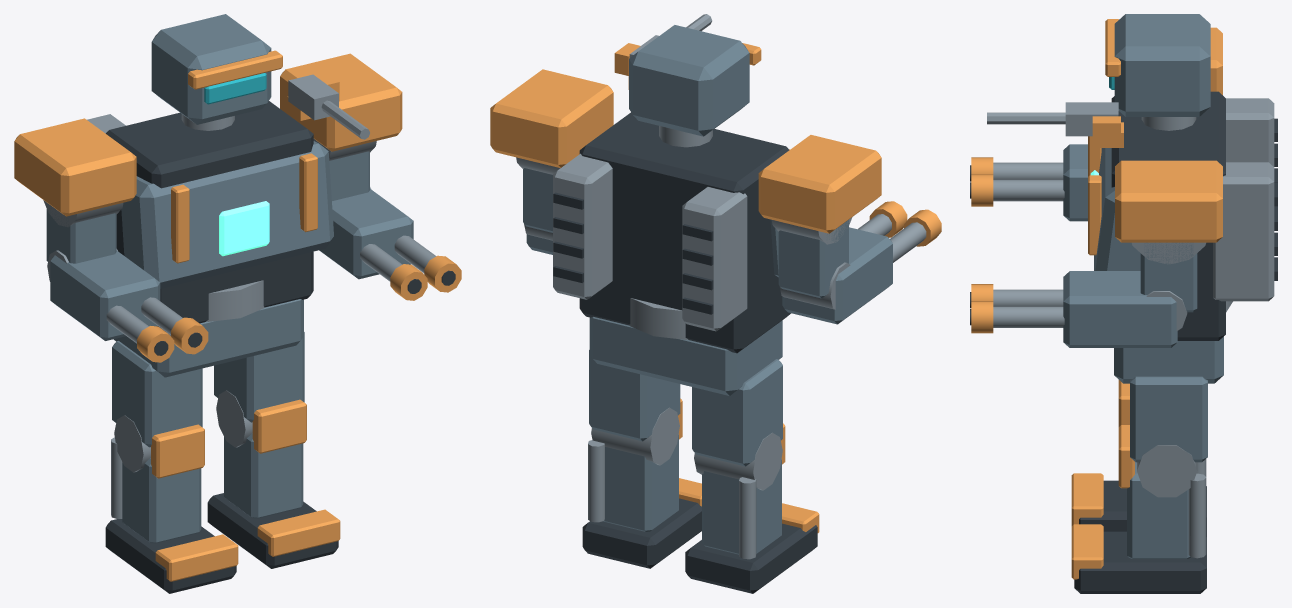
Rendered from boss-quad-mech.glb.
3 renders of one model, left to right at view 1: azimuth 30°, elevation 25°; view 2: azimuth 150°, elevation 25°; view 3: azimuth 270°, elevation 25°, orthographic. The views are drawn at different scales.
Parts seen in each view (by area): view 1: Sloped breastplate, Torso skeleton, Thigh armor, Shoulder plate, Thigh armor.001, Upper arm, Shoulder plate.001, Upper arm.001, Pelvic armor, Hip bearing.001, Hip bearing, Chest armor rib (+11 smaller); view 2: Torso skeleton, Back power unit, Thigh armor, Sloped breastplate, Thigh armor.001, Shoulder plate, Shoulder plate.001, Pelvic armor, Upper arm, Armored foot, Armored foot.001, Knee servo (+7 smaller); view 3: Sloped breastplate, Back power unit, Upper arm.001, Thigh armor.001, Shoulder plate.001, Torso skeleton, Armored foot.001, Shoulder bearing.001, Knee servo.001, Pelvic armor, Shoulder bearing, Hip bearing.001 (+7 smaller).
Part boxes in pixels (<box>): Sloped breastplate: <box>121,14,333,288</box>; Torso skeleton: <box>106,101,313,331</box>; Thigh armor: <box>112,341,202,543</box>; Shoulder plate: <box>14,118,208,362</box>; Thigh armor.001: <box>214,332,304,518</box>; Upper arm: <box>46,208,160,340</box>; Shoulder plate.001: <box>280,53,461,300</box>; Upper arm.001: <box>319,151,413,279</box>; Pelvic armor: <box>114,299,303,377</box>; Hip bearing.001: <box>252,399,340,556</box>; Hip bearing: <box>151,424,238,581</box>; Chest armor rib: <box>171,50,317,263</box>; Torso skeleton: <box>553,112,790,353</box>; Back power unit: <box>553,126,747,331</box>; Thigh armor: <box>692,359,782,554</box>; Sloped breastplate: <box>629,25,778,277</box>; Thigh armor.001: <box>589,350,680,531</box>; Shoulder plate: <box>758,135,941,246</box>; Shoulder plate.001: <box>490,69,613,167</box>; Pelvic armor: <box>589,316,782,395</box>; Upper arm: <box>778,220,892,324</box>; Armored foot: <box>685,523,817,593</box>; Armored foot.001: <box>582,498,701,568</box>; Knee servo: <box>694,432,782,559</box>; Sloped breastplate: <box>1094,14,1210,270</box>; Back power unit: <box>1141,98,1274,301</box>; Upper arm.001: <box>1063,243,1197,347</box>; Thigh armor.001: <box>1127,376,1207,559</box>; Shoulder plate.001: <box>971,160,1222,333</box>; Torso skeleton: <box>1111,91,1277,340</box>; Armored foot.001: <box>1074,531,1206,593</box>; Shoulder bearing.001: <box>993,242,1205,330</box>; Knee servo.001: <box>1137,445,1206,558</box>; Pelvic armor: <box>1114,336,1223,383</box>; Shoulder bearing: <box>993,162,1064,201</box>; Hip bearing.001: <box>1071,425,1134,579</box>.
Size of the model in its own units: 4.42 by 6.31 by 3.36.
